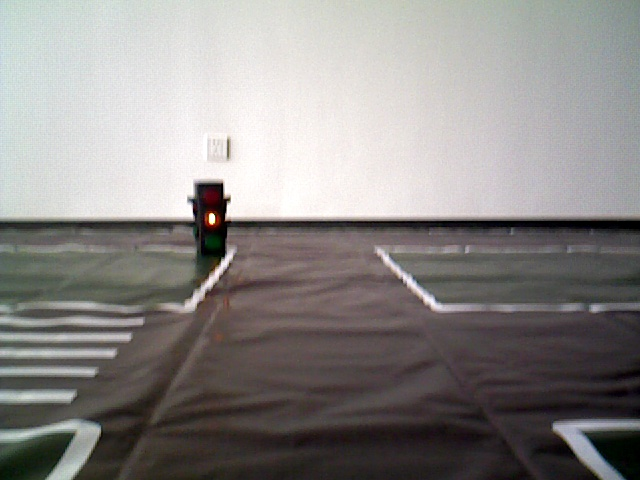yellow: (191, 182, 226, 259)
